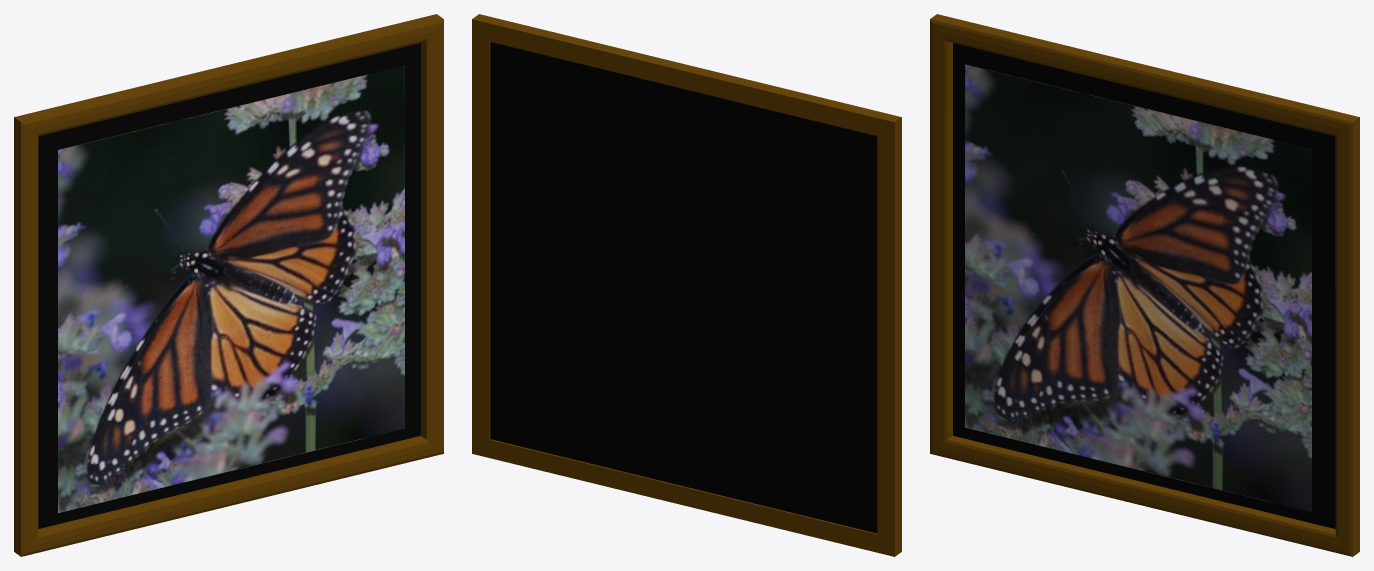
File: ButterflyFrame.obj
3 renders of one model, left to right at view 1: azimuth 30°, elevation 25°; view 2: azimuth 150°, elevation 25°; view 3: azimuth 330°, elevation 25°, orthographic.
Parts seen in each view (by area): view 1: Photo_Cube_Material_Butterfly.jpg, WoodFrame_Cylinder_Wood, Frame_Black_Material.000; view 2: Frame_Black_Material.000, WoodFrame_Cylinder_Wood; view 3: Photo_Cube_Material_Butterfly.jpg, WoodFrame_Cylinder_Wood, Frame_Black_Material.000.
Boxes of the visible parts, box(x1,y1,x2,y2) form: Photo_Cube_Material_Butterfly.jpg: box(58, 65, 404, 513); WoodFrame_Cylinder_Wood: box(14, 14, 443, 556); Frame_Black_Material.000: box(38, 43, 420, 528); Frame_Black_Material.000: box(490, 42, 877, 533); WoodFrame_Cylinder_Wood: box(472, 14, 901, 556); Photo_Cube_Material_Butterfly.jpg: box(965, 64, 1311, 512); WoodFrame_Cylinder_Wood: box(930, 14, 1359, 556); Frame_Black_Material.000: box(953, 43, 1335, 528).
Bounding box in the file's own units: 48.72 × 47.86 × 1.6.
3 materials, 1 textured.
